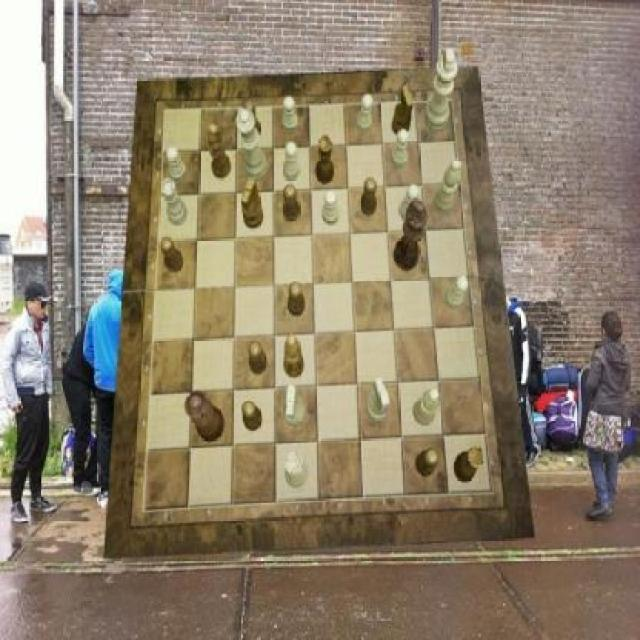bishop: (208, 124, 232, 180), (283, 332, 304, 378)
black-bishop: (394, 200, 428, 272)
black-king: (392, 85, 415, 137), (242, 178, 264, 231)
black-knight: (160, 237, 184, 271), (244, 100, 262, 140), (283, 184, 301, 220), (248, 342, 267, 376), (417, 449, 440, 477), (360, 179, 377, 216), (242, 402, 262, 432), (288, 282, 305, 316)
black-pawn: (184, 391, 224, 443)
black-queen: (454, 445, 484, 482), (316, 136, 334, 184)
black-rook: (434, 158, 461, 214), (412, 388, 440, 425)
white-bishop: (424, 47, 458, 132)
white-king: (368, 378, 390, 422), (283, 385, 305, 426)
white-knight: (444, 276, 468, 310), (398, 184, 419, 220), (166, 146, 187, 182), (355, 94, 373, 134), (391, 129, 408, 169), (283, 97, 300, 135), (283, 143, 299, 182), (323, 190, 340, 226)
white-pawn: (237, 109, 269, 182)
white-queen: (162, 179, 188, 226), (284, 452, 308, 488)
